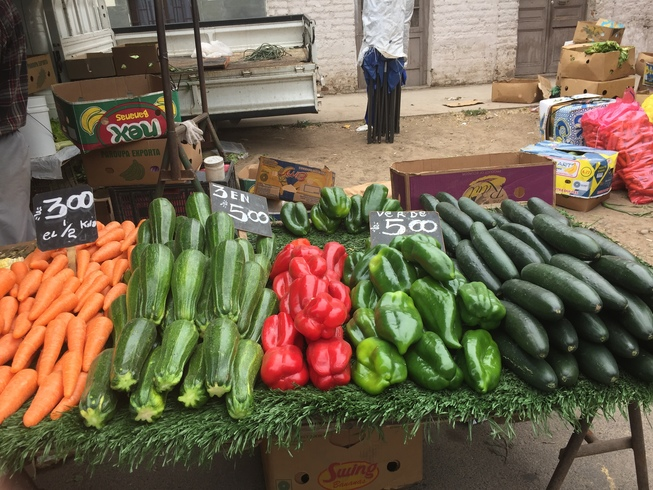precio: (24, 181, 99, 260), (205, 179, 282, 249), (365, 206, 452, 262)
